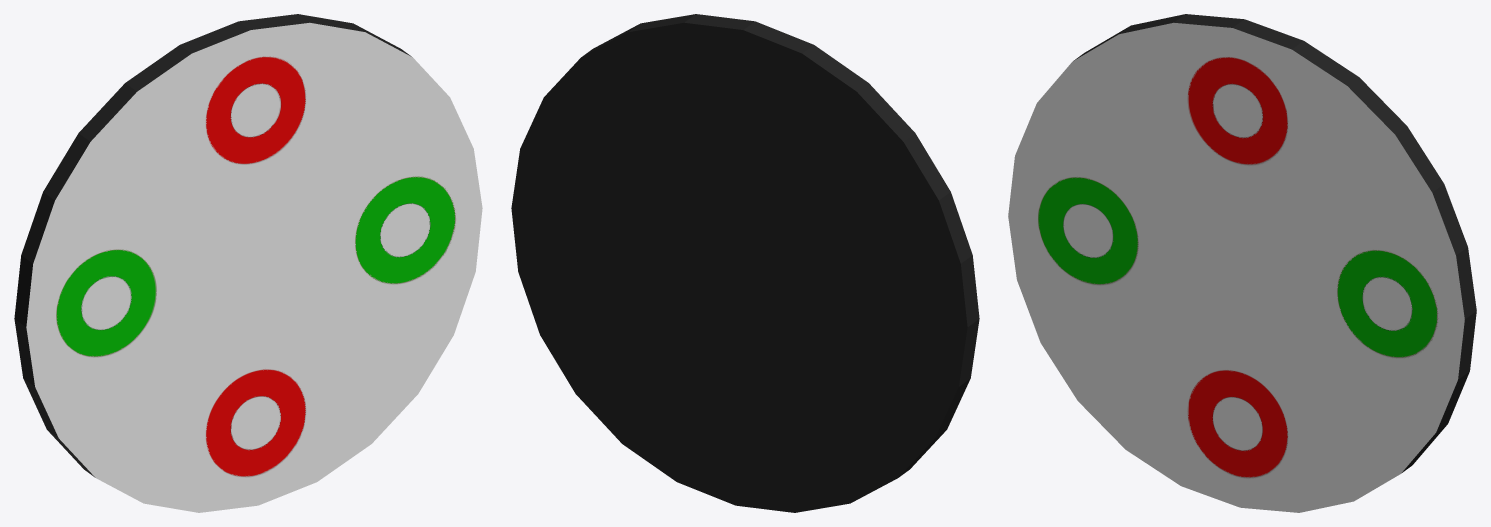
File: Wheel.dae
3 renders of one model, left to right at view 1: azimuth 30°, elevation 25°; view 2: azimuth 150°, elevation 25°; view 3: azimuth 330°, elevation 25°, orthographic.
Visible parts, largest first — view 1: node; view 2: node; view 3: node.
Boxes of the visible parts, box(x1,y1,x2,y2) form: node: box(14, 14, 482, 512); node: box(511, 14, 979, 512); node: box(1008, 14, 1476, 512).
Bounding box in the file's own units: 1.1 × 1.1 × 0.05.
1 material, 1 textured.
